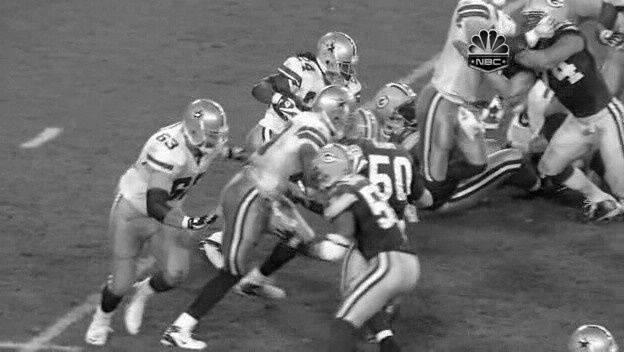person: (324, 29, 360, 75), (323, 29, 359, 75), (325, 29, 361, 75), (324, 28, 360, 74), (324, 30, 360, 76)
target_negative: (27, 173, 541, 295), (56, 138, 389, 216), (193, 235, 240, 287), (614, 32, 621, 278), (548, 339, 609, 349), (567, 183, 613, 188)
